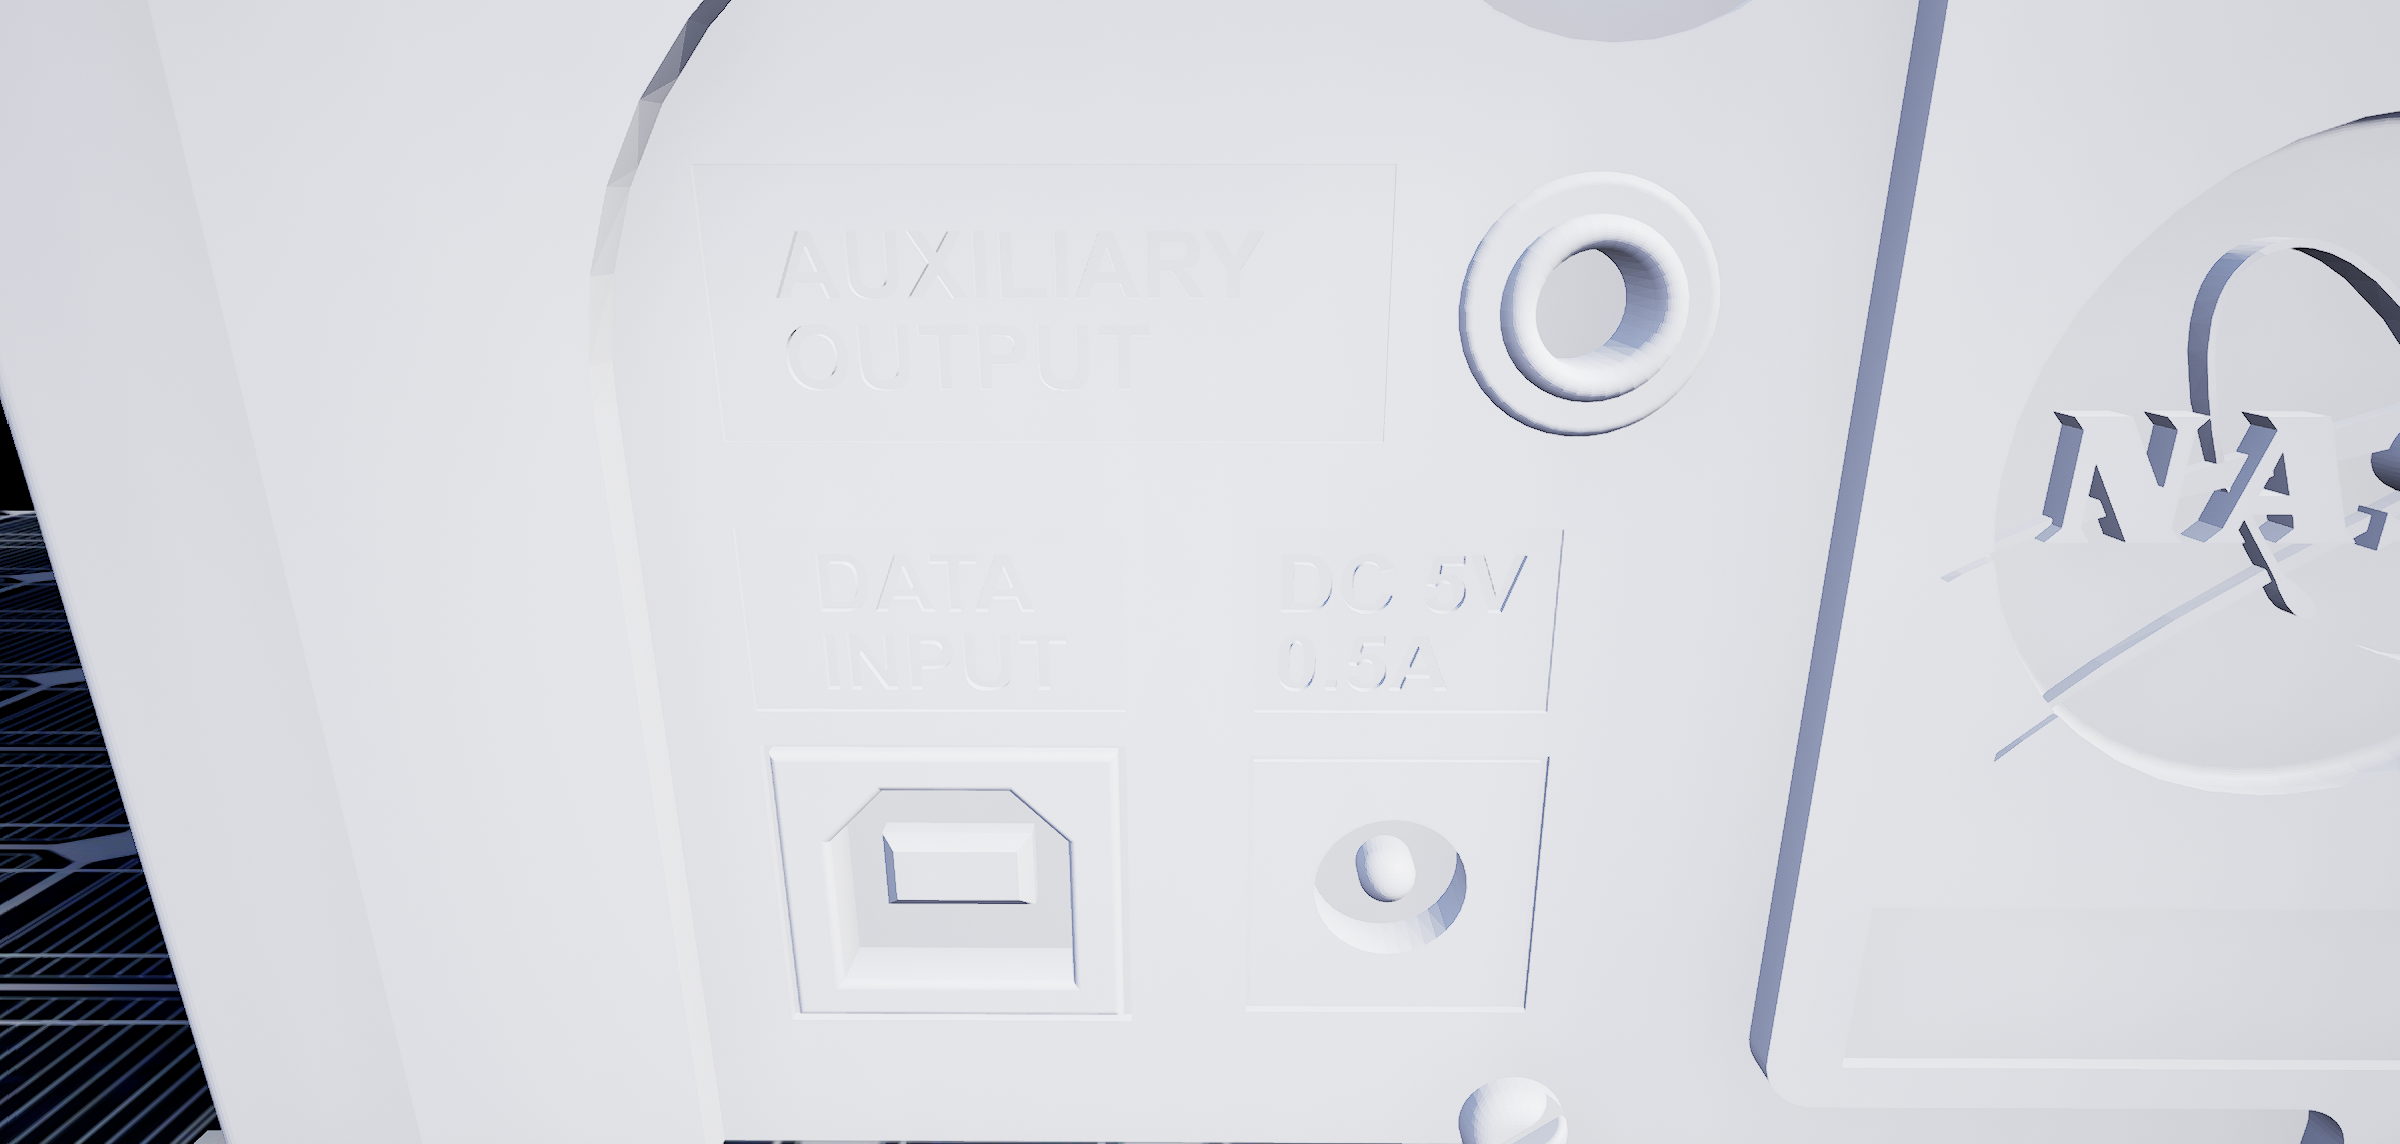aux: (1436, 152, 1743, 452)
dc: (1296, 809, 1488, 976)
usb: (790, 763, 1087, 1012)
